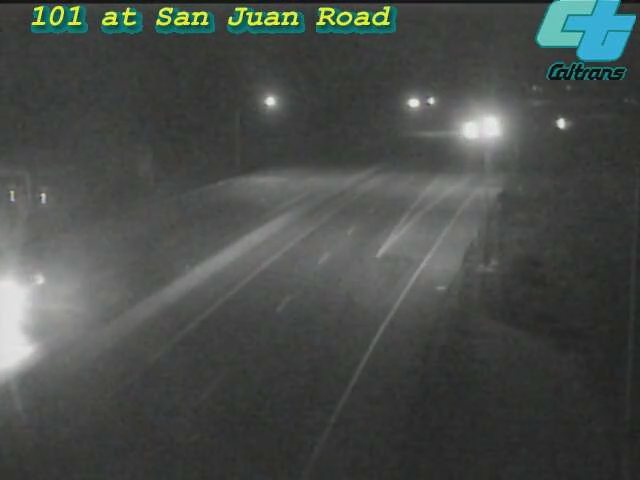vehicle: (1, 257, 48, 337), (535, 99, 585, 149), (446, 105, 496, 155), (465, 102, 515, 152)
